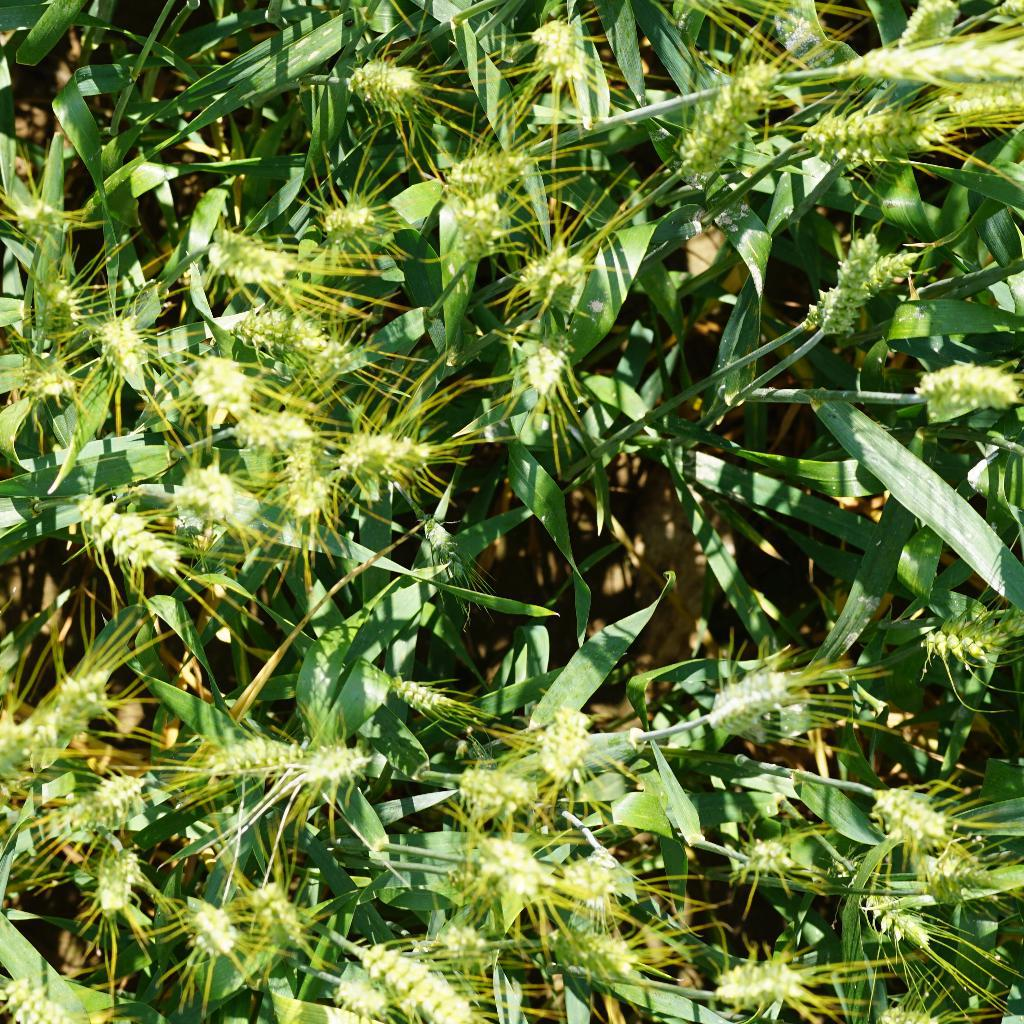0-0: (675, 51, 783, 193), (340, 926, 485, 1024), (691, 649, 815, 742), (838, 31, 1024, 92), (796, 97, 944, 169), (855, 765, 975, 848), (268, 717, 385, 802), (183, 702, 318, 770), (900, 361, 1024, 434), (16, 661, 118, 748), (913, 78, 1024, 153), (238, 858, 316, 960), (535, 916, 647, 986), (923, 591, 1016, 675), (159, 877, 249, 963), (82, 494, 175, 572), (862, 869, 942, 959), (530, 692, 601, 791), (441, 748, 529, 826), (714, 948, 813, 1017), (201, 216, 301, 284), (339, 41, 425, 120), (163, 339, 250, 415), (340, 421, 443, 485), (64, 757, 154, 830), (512, 253, 609, 317), (0, 967, 105, 1024), (238, 306, 332, 367), (279, 451, 342, 541), (832, 234, 885, 339), (389, 666, 482, 725), (178, 456, 249, 533), (834, 239, 920, 299), (557, 841, 634, 908), (464, 822, 529, 899), (82, 843, 153, 912), (74, 302, 146, 370), (321, 968, 408, 1024), (735, 829, 810, 893), (228, 391, 310, 449), (12, 350, 94, 407), (533, 7, 595, 82), (414, 497, 474, 574), (918, 840, 993, 901), (504, 342, 583, 399), (314, 198, 395, 253), (15, 262, 81, 324), (413, 915, 493, 964), (451, 154, 537, 198), (1, 706, 46, 788), (897, 0, 970, 45), (456, 185, 505, 249), (14, 183, 70, 236)
